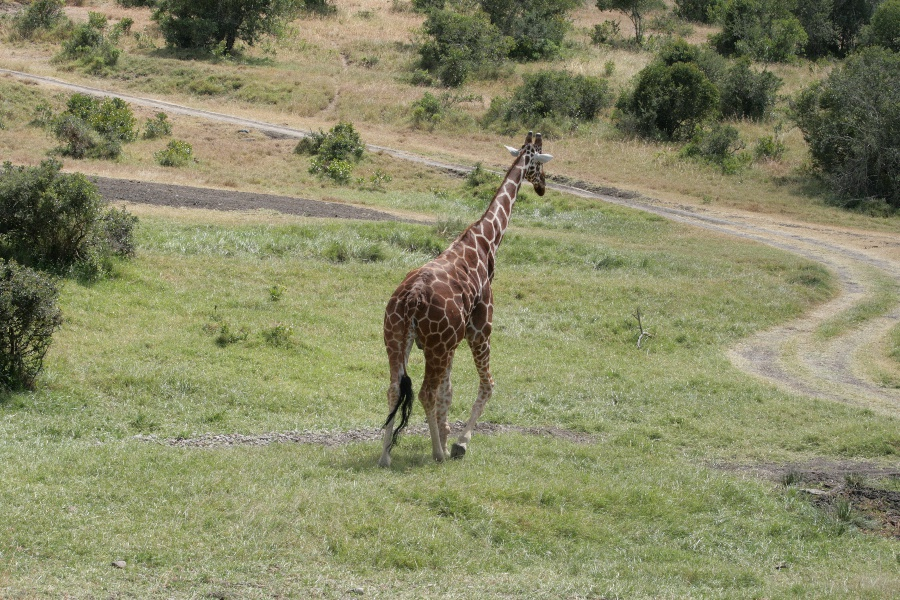giraffe: (364, 124, 558, 474)
